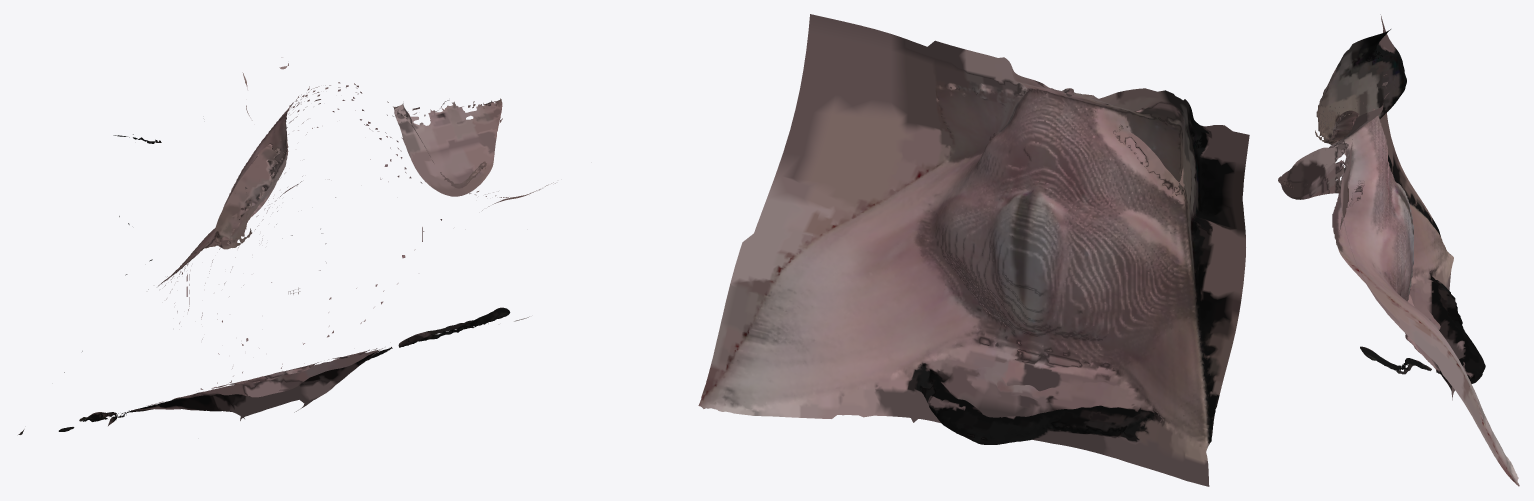
The picture shows the model from 3 angles, left to right: view 1: azimuth 30°, elevation 25°; view 2: azimuth 150°, elevation 25°; view 3: azimuth 270°, elevation 25°; orthographic projection. The views are drawn at different scales.
Bounding box in the file's own units: 0.0014 × 0.000947 × 0.000731.
